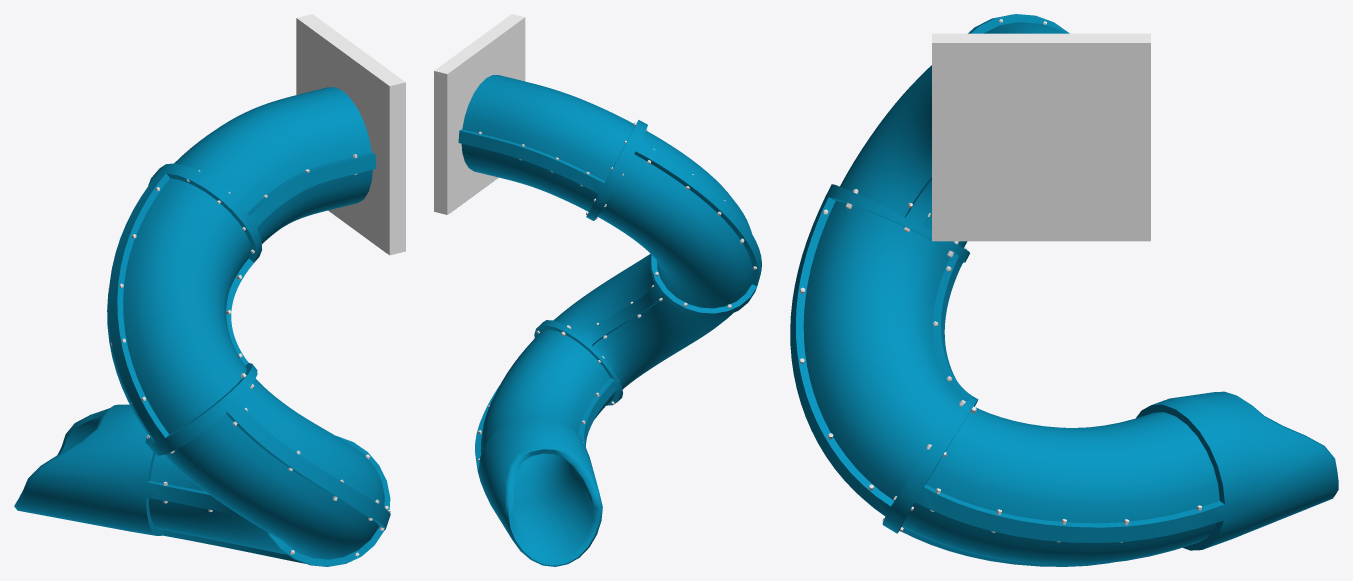
Rendered from TTWS-7.addb0e76.glb.
The picture shows the model from 3 angles, left to right: view 1: azimuth 30°, elevation 25°; view 2: azimuth 150°, elevation 25°; view 3: azimuth 270°, elevation 25°; orthographic projection. The views are drawn at different scales.
Visible parts, largest first — view 1: NurbsPath001,_colorize_, joint_c,1,8, Side_winder_slide008; view 2: NurbsPath001,_colorize_, joint_c,1,8, Side_winder_slide008; view 3: NurbsPath001,_colorize_, joint_c,1,8, Side_winder_slide008.
Part boxes in pixels (left/top/right/bottom): NurbsPath001,_colorize_: left=14, top=87, right=390, bottom=566; joint_c,1,8: left=296, top=14, right=405, bottom=255; Side_winder_slide008: left=108, top=154, right=390, bottom=556; NurbsPath001,_colorize_: left=451, top=75, right=761, bottom=566; joint_c,1,8: left=434, top=14, right=525, bottom=214; Side_winder_slide008: left=478, top=122, right=761, bottom=461; NurbsPath001,_colorize_: left=790, top=14, right=1338, bottom=566; joint_c,1,8: left=932, top=33, right=1150, bottom=241; Side_winder_slide008: left=799, top=19, right=1201, bottom=542.
Size of the model in its own units: 1.79 by 2.92 by 2.51.
